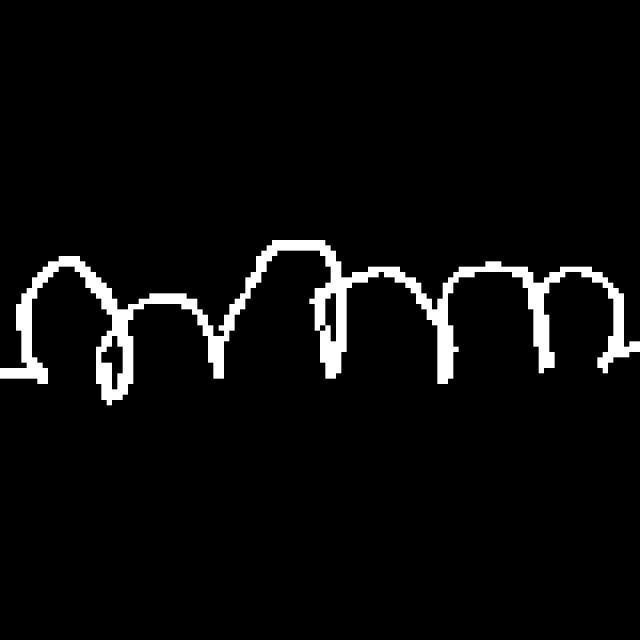inductor: (0, 219, 640, 416)
